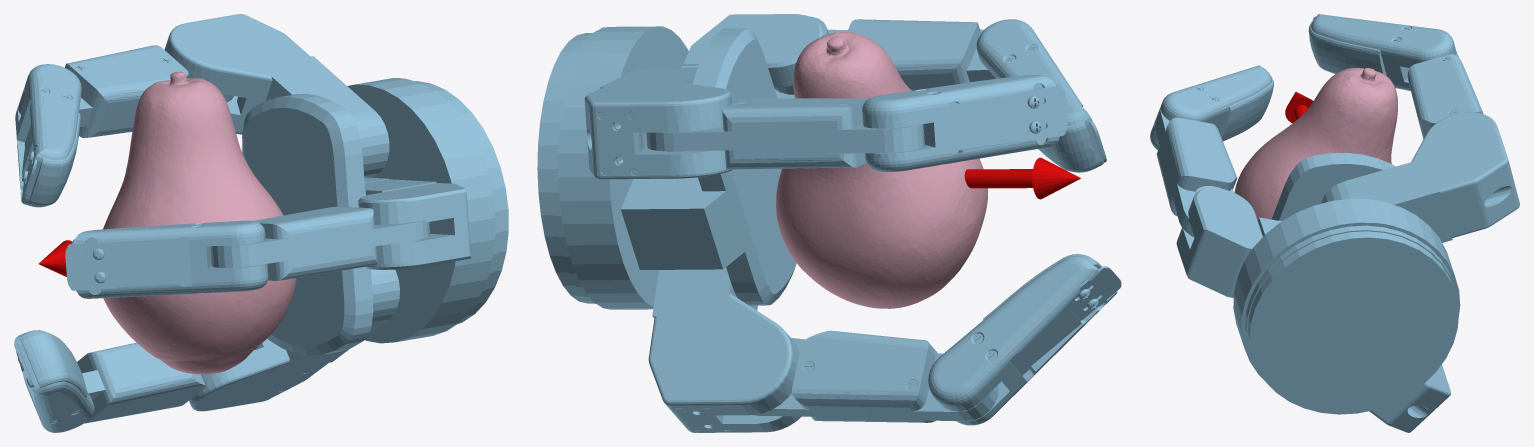
3 renders of one model, left to right at view 1: azimuth 30°, elevation 25°; view 2: azimuth 150°, elevation 25°; view 3: azimuth 270°, elevation 25°, orthographic. The views are drawn at different scales.
Parts seen in each view (by area): view 1: world, pear.stl; view 2: world, pear.stl; view 3: world, pear.stl.
Boxes of the visible parts, x1,y1,x2,y2 form: world: [14, 14, 508, 432]; pear.stl: [103, 71, 296, 374]; world: [537, 14, 1121, 432]; pear.stl: [776, 32, 987, 308]; world: [1150, 14, 1519, 432]; pear.stl: [1234, 68, 1397, 220].
Size of the model in its own units: 0.1859 by 0.1402 by 0.1476.
